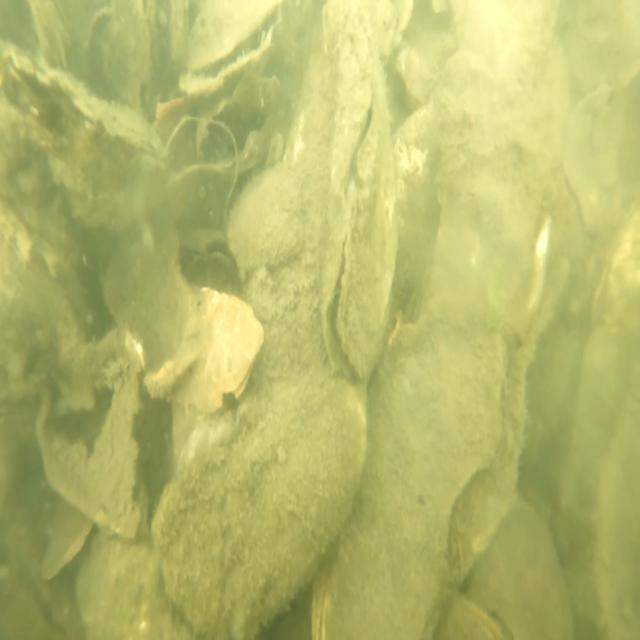Oyster-Closed: (311, 301, 523, 640), (424, 142, 584, 372), (0, 39, 167, 225), (147, 287, 266, 409), (0, 205, 88, 358), (177, 219, 234, 269)
Oyster-Indeterminate: (152, 367, 366, 640), (225, 159, 342, 379), (463, 499, 575, 640)
Oyster-Open: (320, 15, 399, 380), (178, 0, 284, 101), (195, 66, 286, 177)
